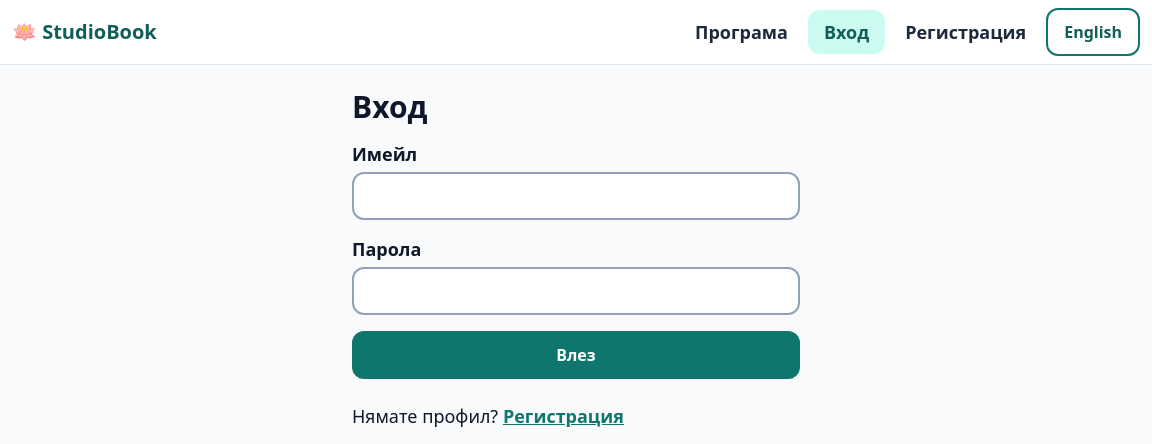
Test case: App routing and auth › AC-3: login lands instructor on Today and shows nav by role
The width and height of the screenshot is (1152, 444).
In the field labelled "Имейл": (576, 196) [352,172,800,220], type "a@b.bg"
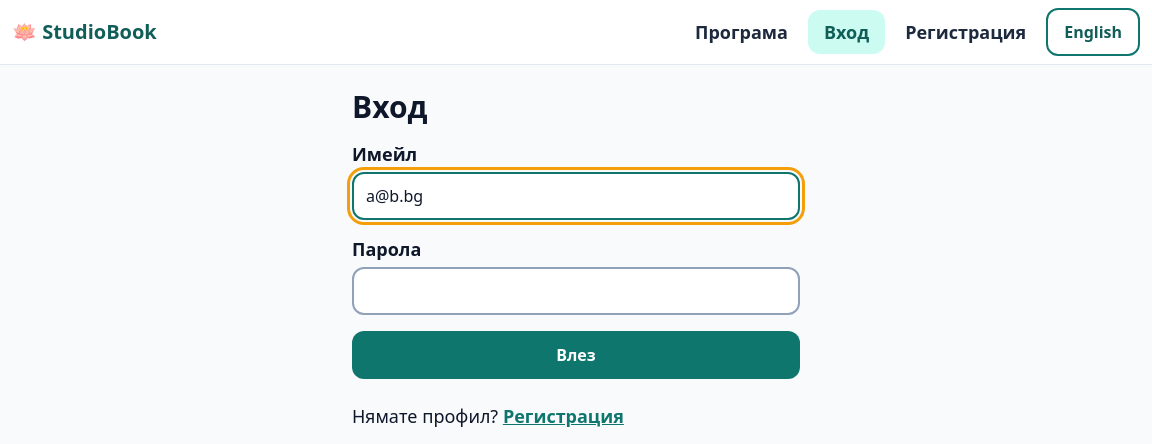
In the password field labelled "Парола": (576, 291) [352,267,800,315], type "secret123"
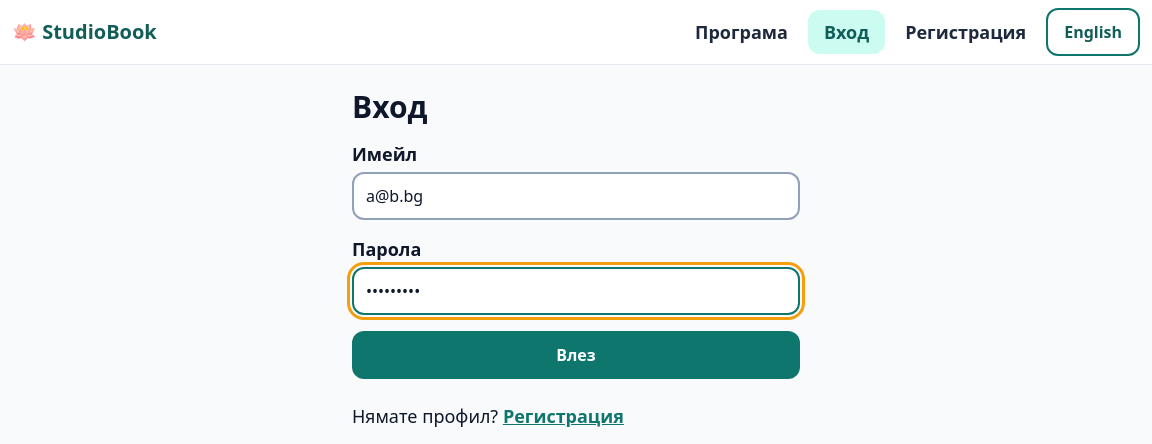
Click the button "Влез": (576, 355) [352,331,800,379]
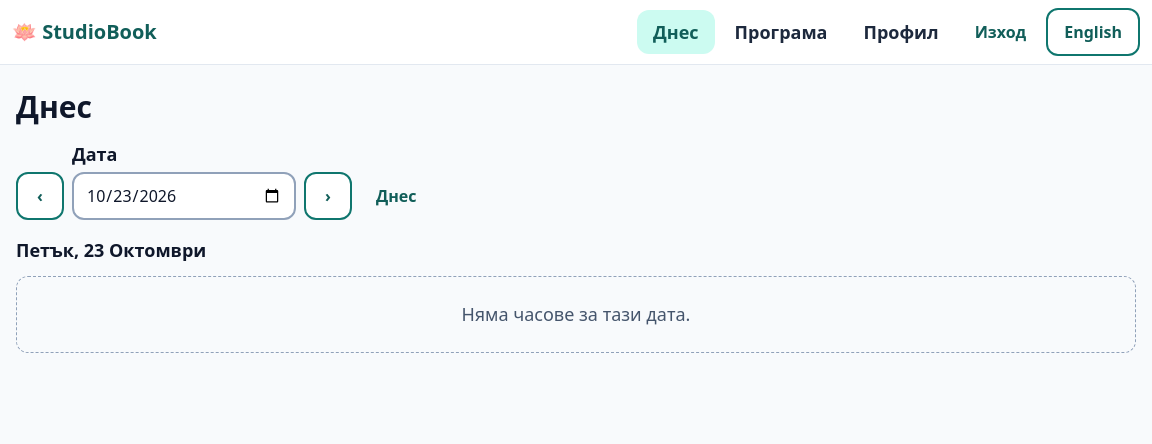
Check: the text "Няма часове за тази дата." is shown, box [16,276,1136,353]
